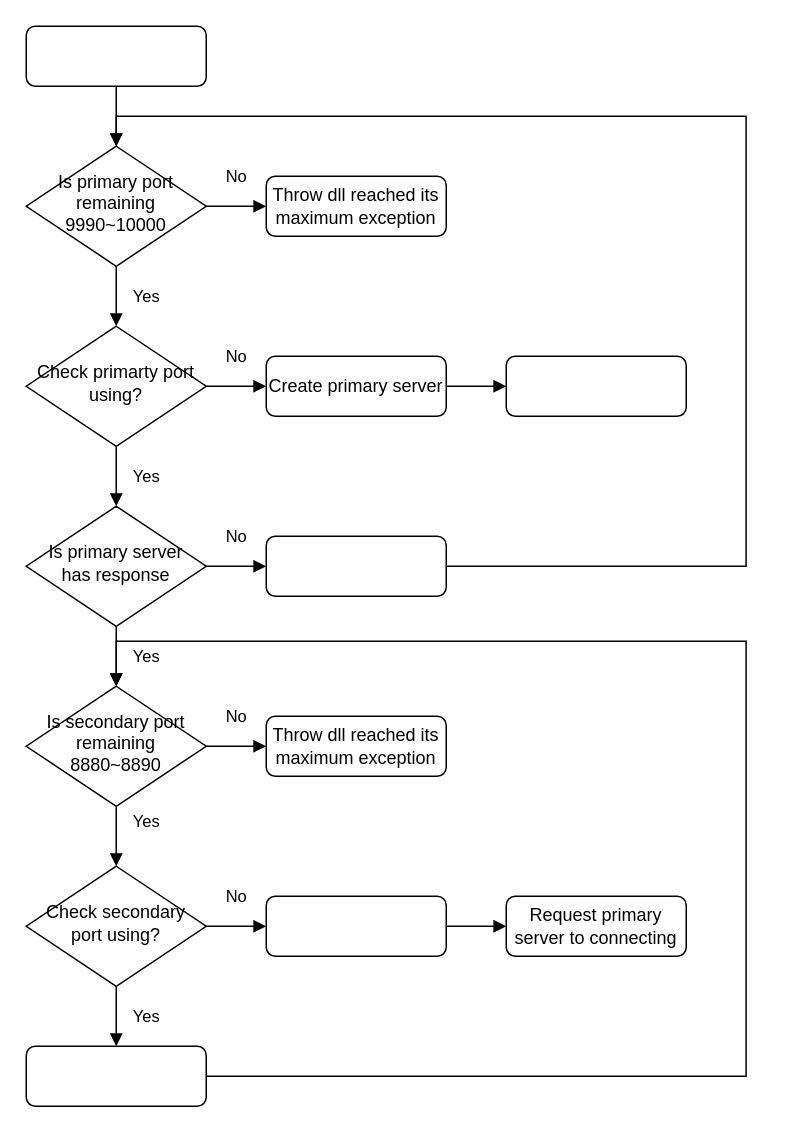
Some shapes in this 785 by 1133 pixel diagram are drawn without their labels. Each missing label, with the centre of its shape:
"Check next primary port" belongs at point (355, 565).
"Check next secondary port" belongs at point (115, 1075).
"Create secondary server" belongs at point (355, 925).
"Dll Init" belongs at point (115, 55).
"Notify all secondary server with ports info" belongs at point (595, 385).
